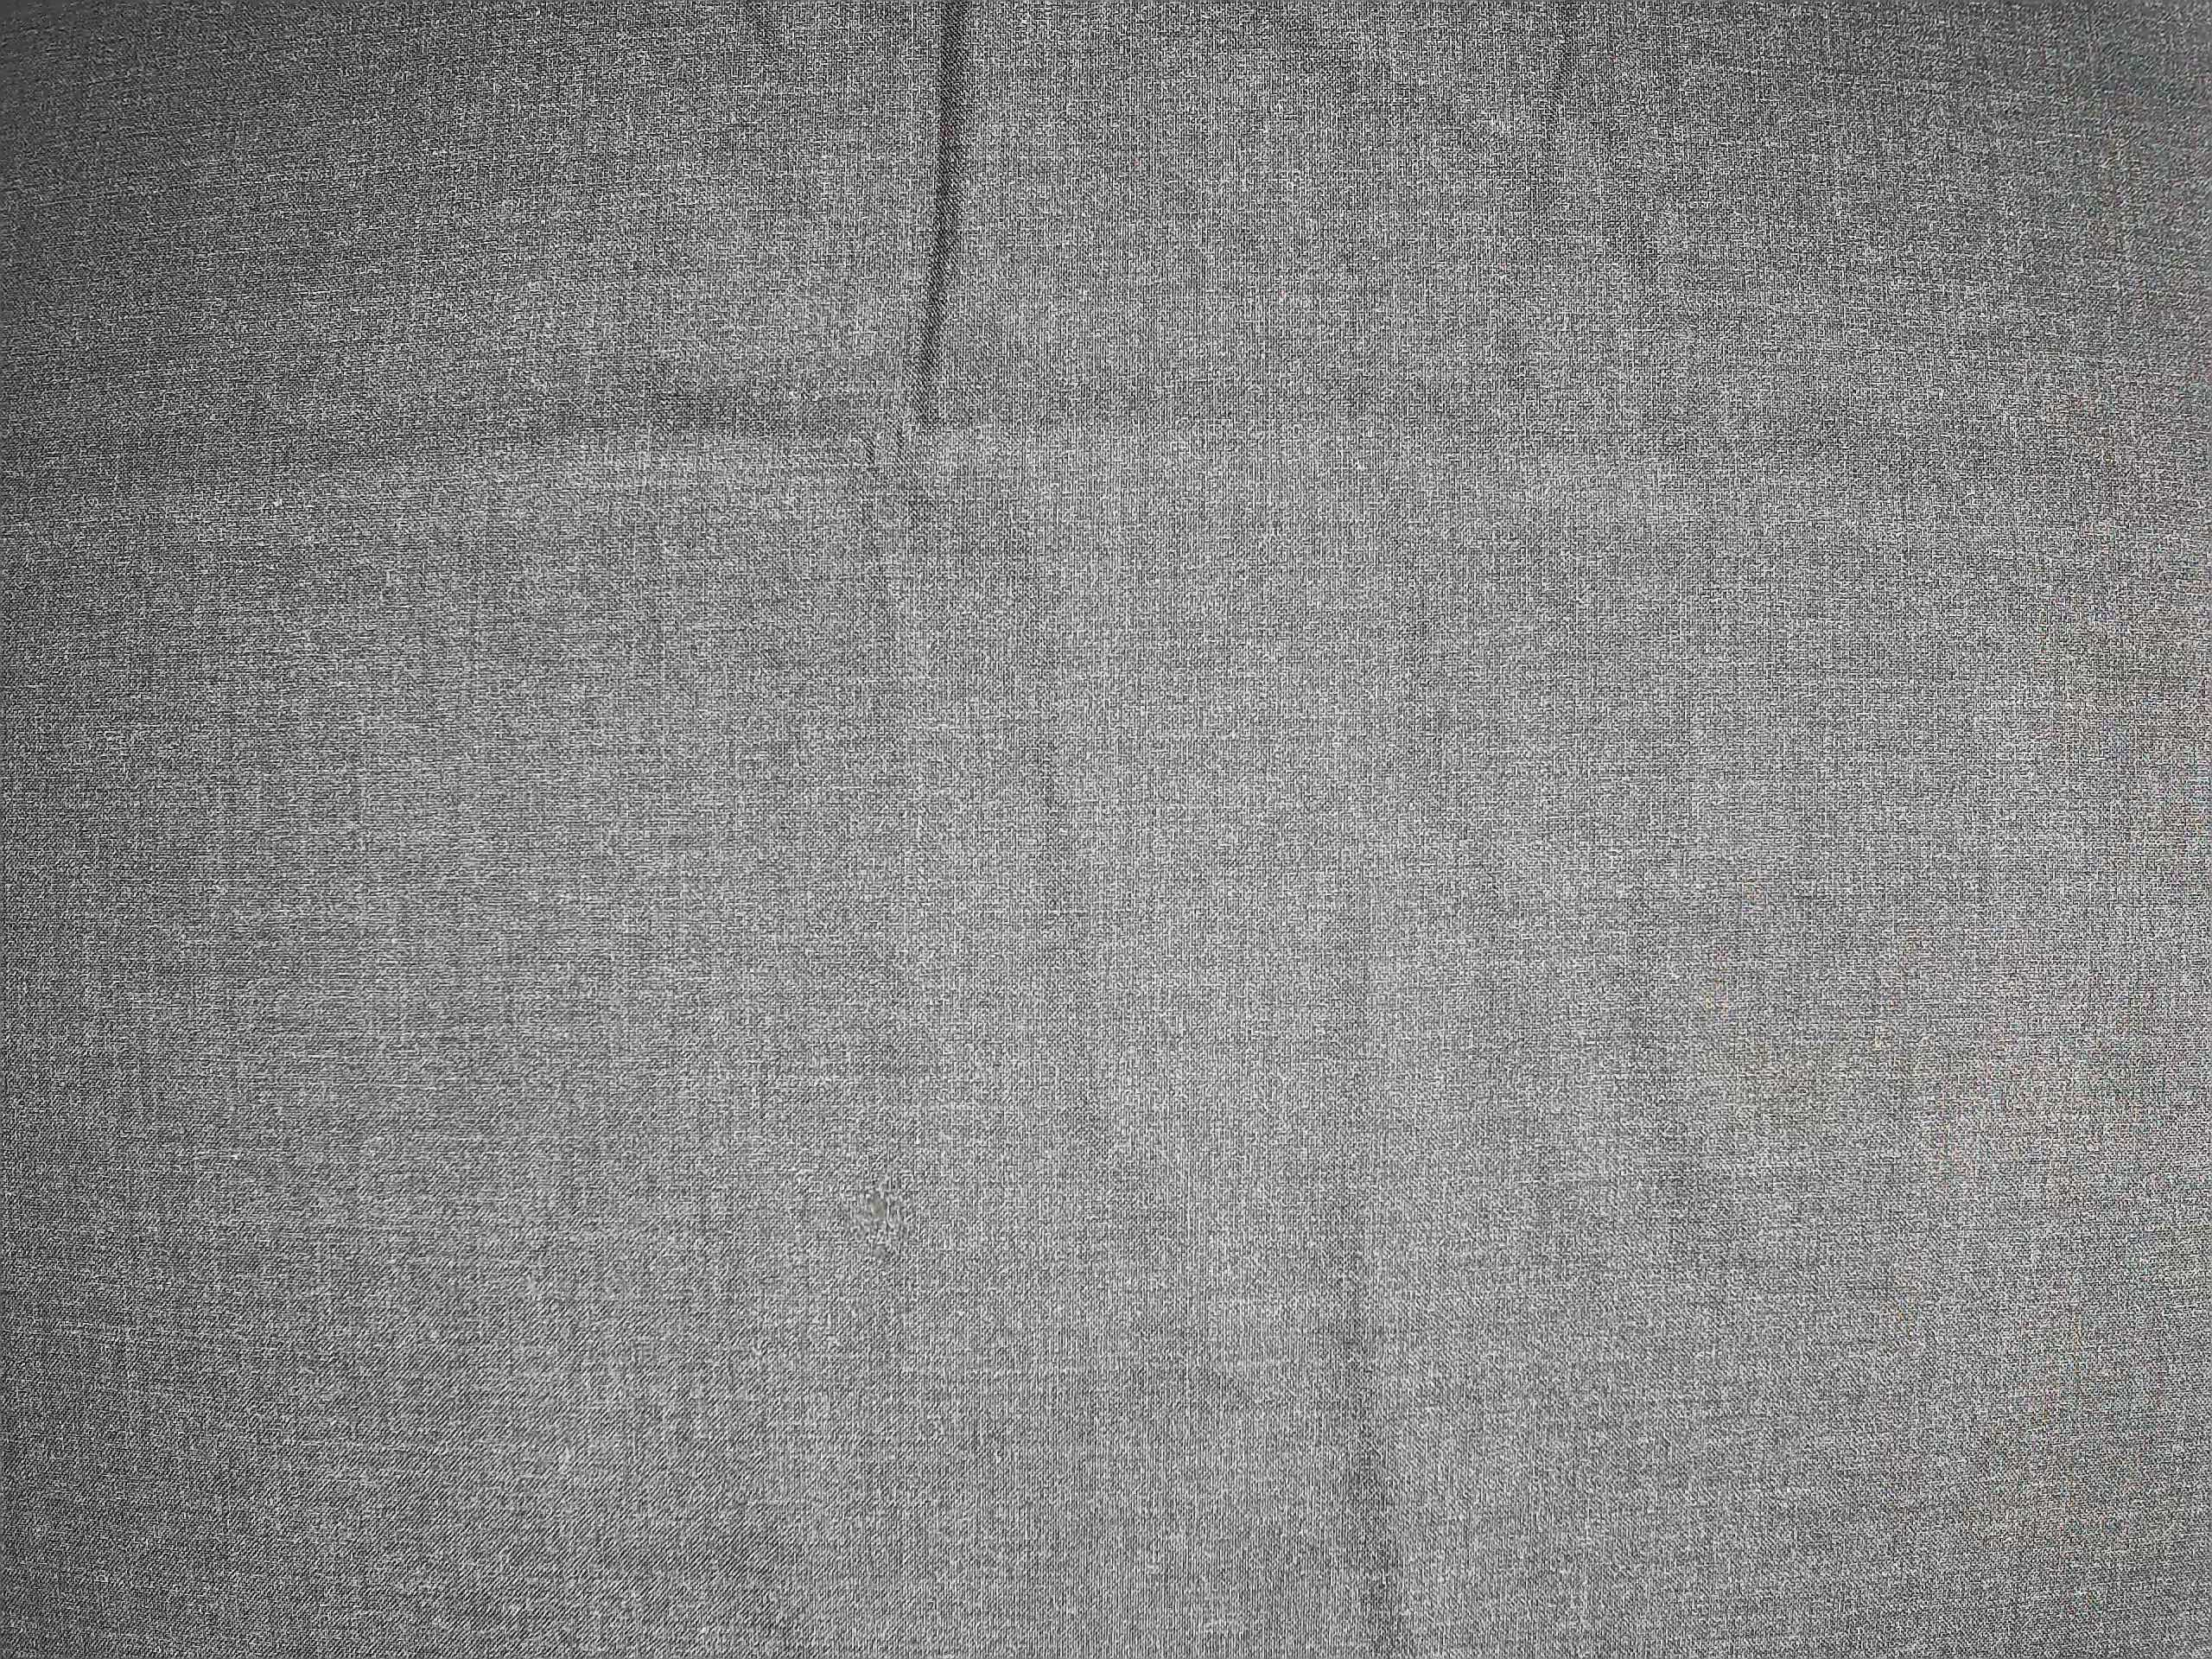rubbing-hole: (838, 1171, 927, 1260)
